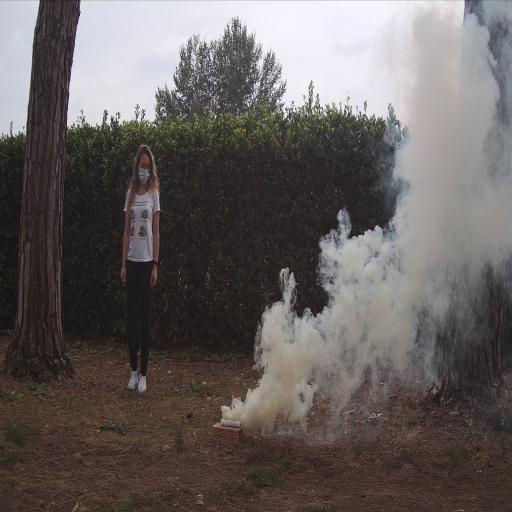leakage: (217, 3, 512, 479)
